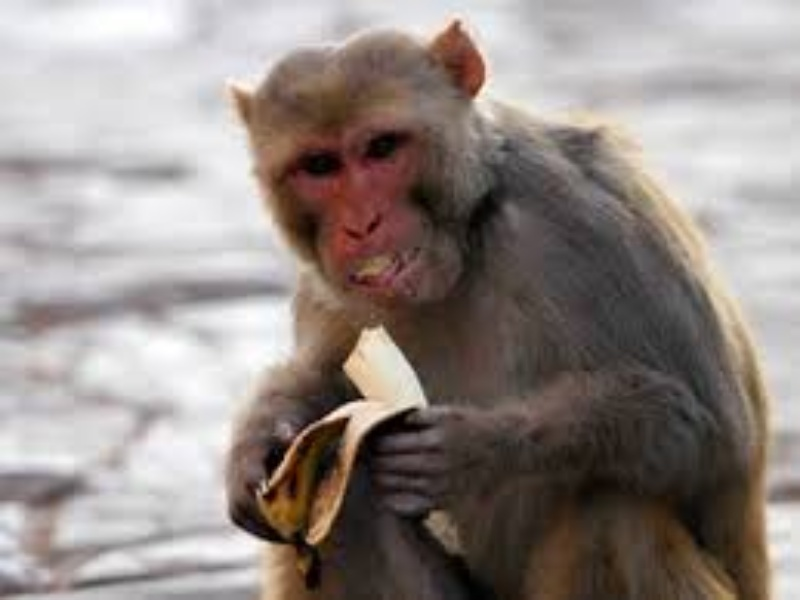monkey: (190, 18, 773, 589)
